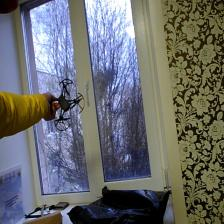drone: (46, 76, 88, 136)
